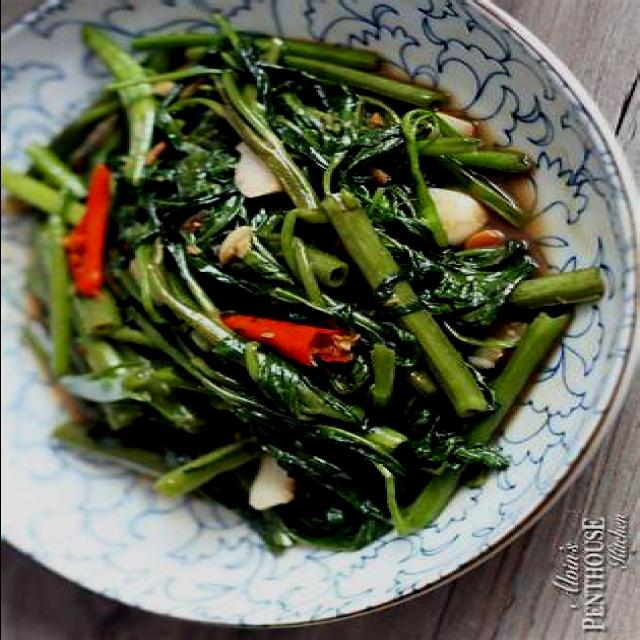tumis kangkung: (24, 30, 607, 555)
